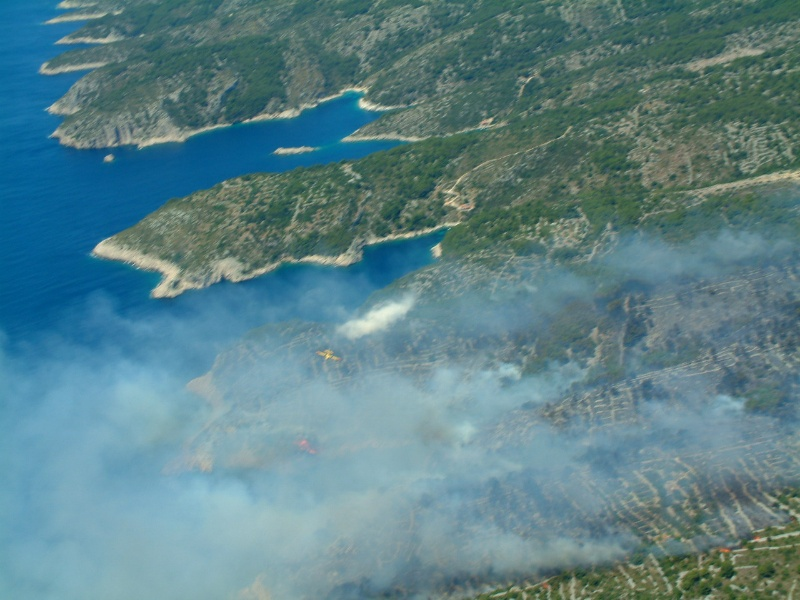smoke: (1, 295, 509, 590)
